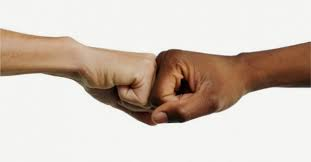fist: (158, 48, 236, 128), (92, 39, 149, 130)
